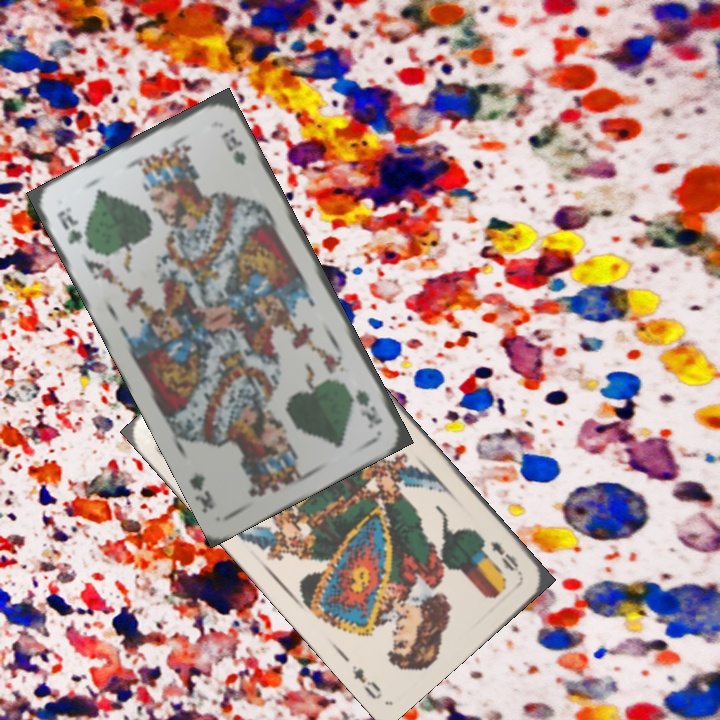EO: (486, 537, 524, 577)
GK: (351, 385, 385, 431), (53, 203, 85, 247)
